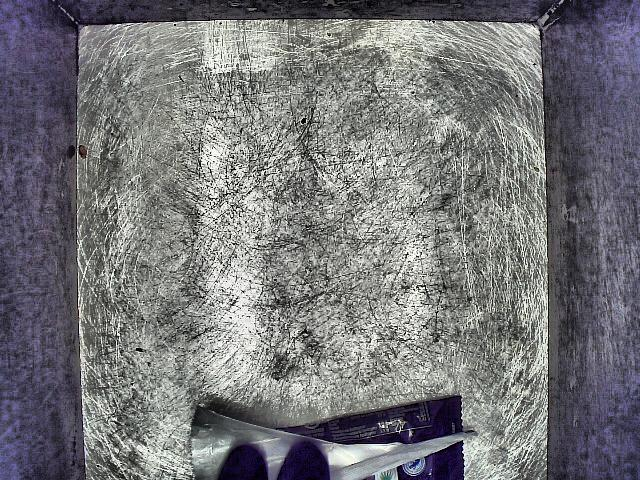Plastic: (172, 375, 471, 480)
